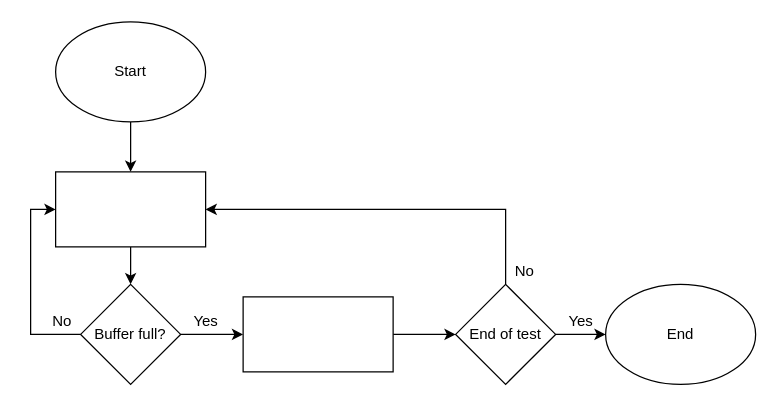
This 778x406 diagram has some shape labels left out. The shapes that lost their labels are listed below. From the top down, each one's centre as x and y in pixels, then its label:
At (130,209): "Insert new data in buffer".
At (317,334): "Insert data in database".
